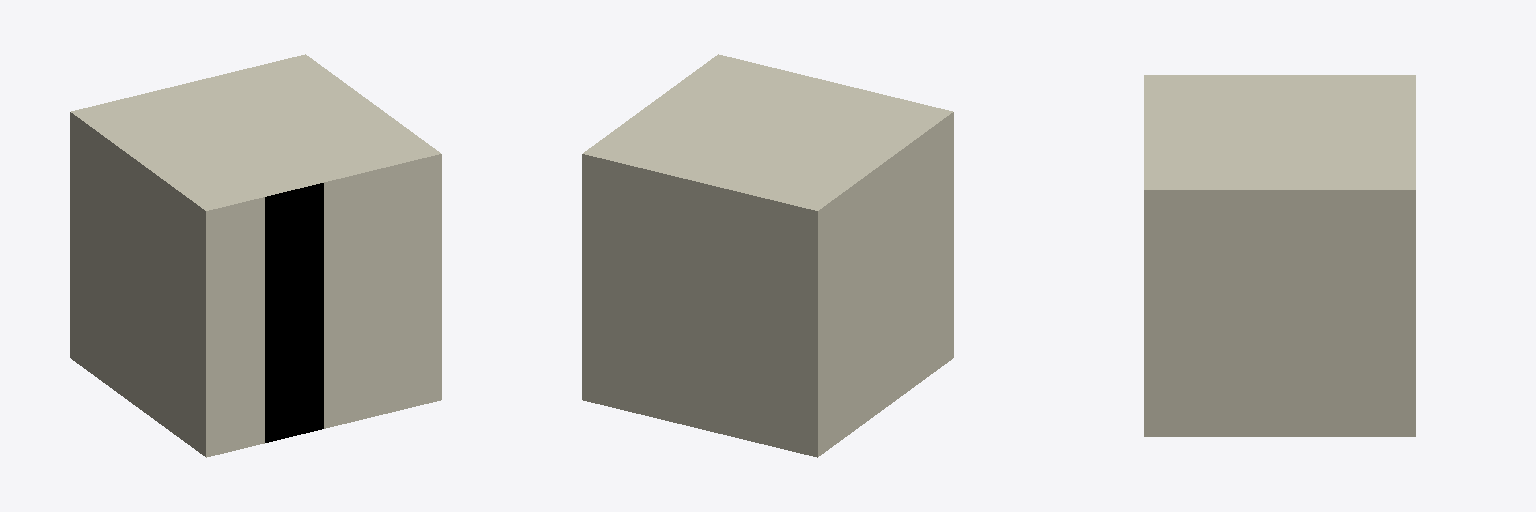
3 renders of one model, left to right at view 1: azimuth 30°, elevation 25°; view 2: azimuth 150°, elevation 25°; view 3: azimuth 270°, elevation 25°, orthographic.
Visible parts, largest first — view 1: Cube; view 2: Cube; view 3: Cube.
Boxes of the visible parts, x1,y1,x2,y2 form: Cube: [70, 54, 441, 457]; Cube: [582, 54, 953, 457]; Cube: [1144, 75, 1415, 436].
Bounding box in the file's own units: 1 × 1 × 1.
1 materials, 1 textured.